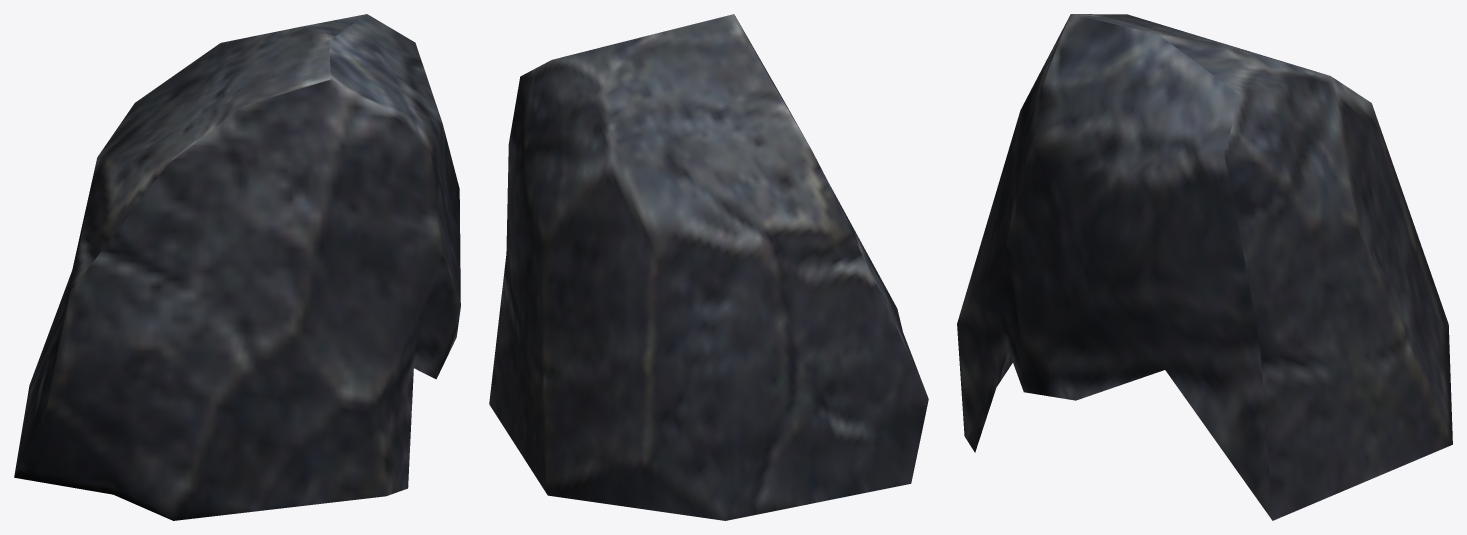
File: GWZ_Stone_08.FBX
3 views of the same model, side by side, from view 1: azimuth 30°, elevation 25°; view 2: azimuth 150°, elevation 25°; view 3: azimuth 270°, elevation 25° (orthographic). The views are drawn at different scales.
Visible parts, largest first — view 1: GWZ_Stone_08; view 2: GWZ_Stone_08; view 3: GWZ_Stone_08.
Part boxes in pixels (<box>): GWZ_Stone_08: <box>14,14,460,520</box>; GWZ_Stone_08: <box>489,14,928,520</box>; GWZ_Stone_08: <box>957,14,1452,520</box>.
Size of the model in its own units: 318 by 281 by 300.
